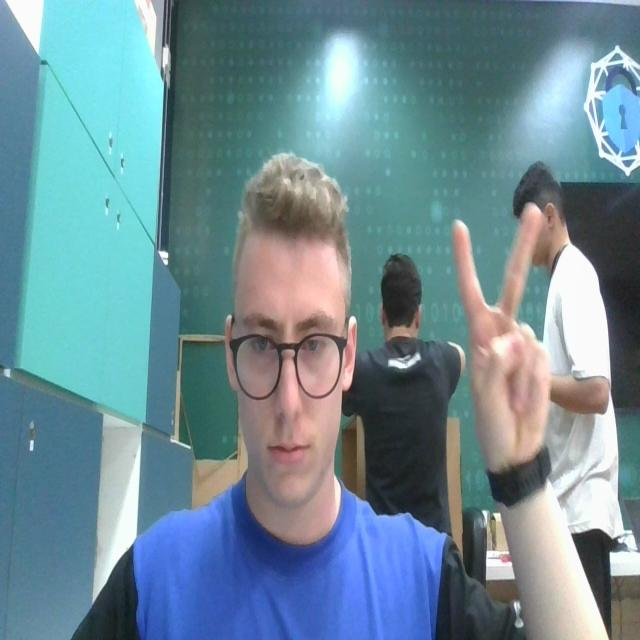V: (448, 204, 555, 457)
